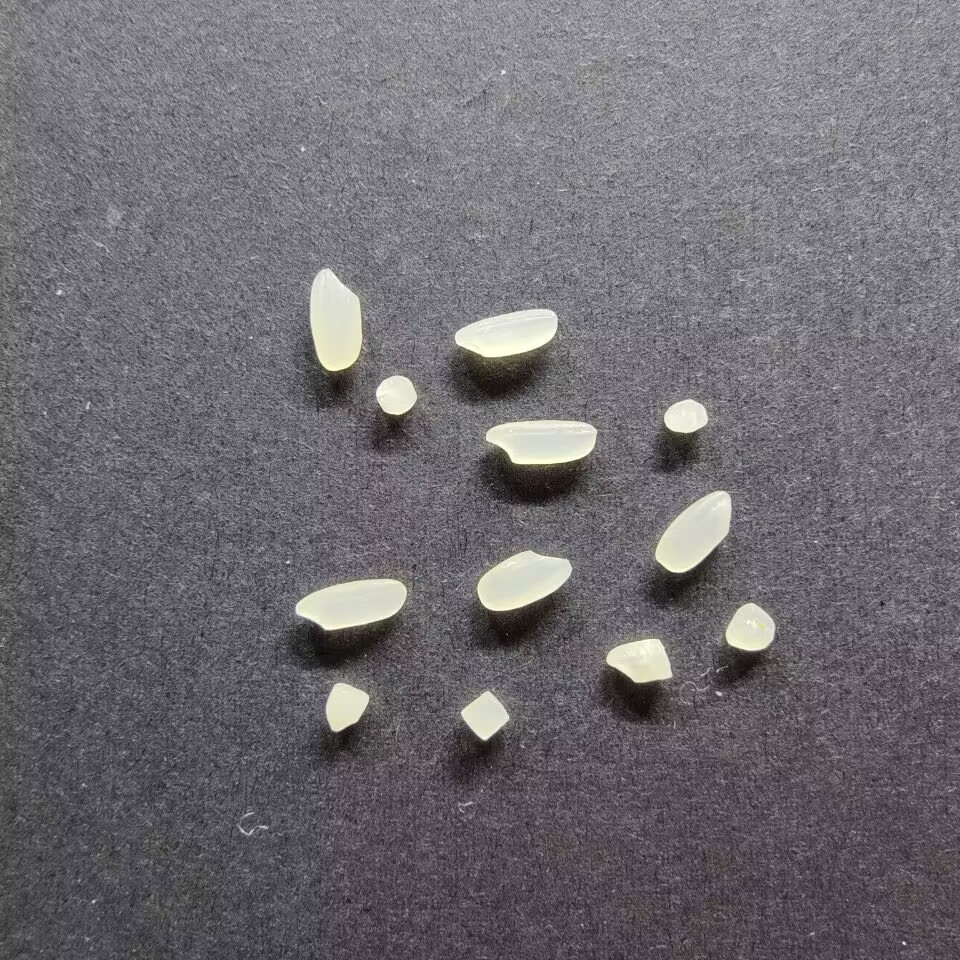broken: (605, 637, 673, 683), (722, 602, 777, 652), (460, 688, 511, 741), (323, 681, 371, 733), (374, 374, 417, 417), (660, 397, 708, 434)
rice: (653, 488, 733, 574), (293, 577, 407, 631), (475, 548, 572, 611), (307, 267, 363, 371), (453, 307, 559, 358), (484, 418, 597, 465)
